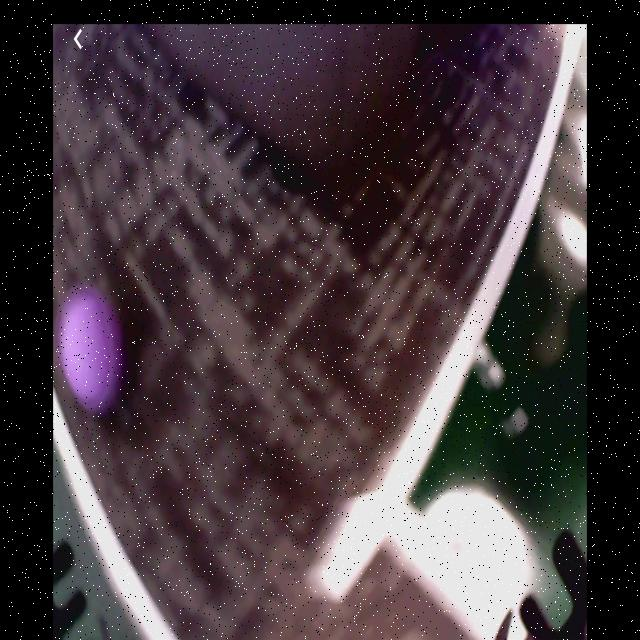ball: (61, 299, 124, 413)
